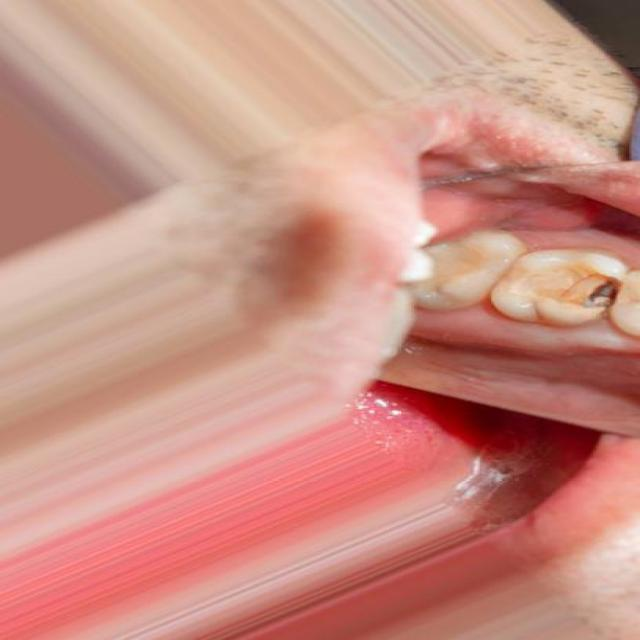caries: (495, 247, 629, 324)
